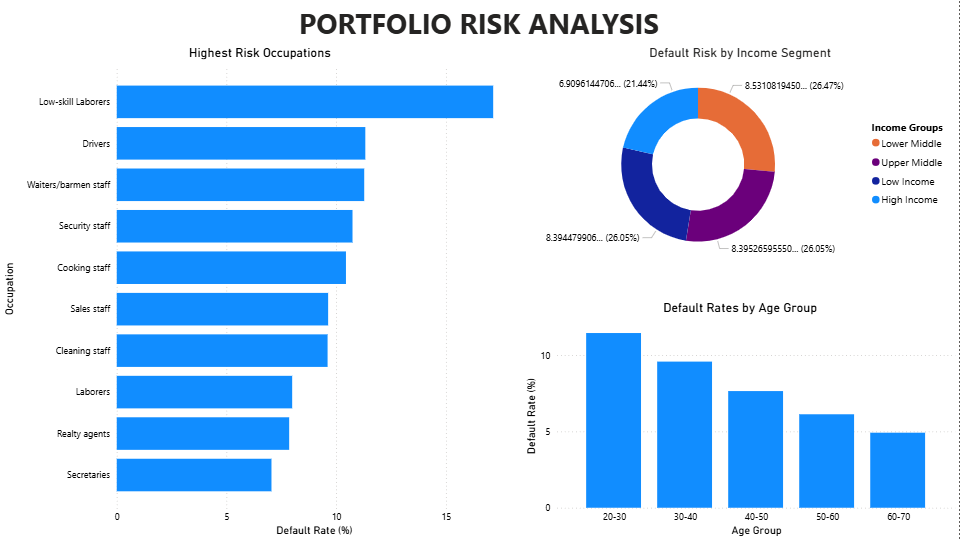

The page's visual inventory and layout, read from the dashboard file:
{"tool":"powerbi","page":{"name":"Page 2","canvas":[1280,720],"ordinal":1},"visuals":[{"type":"textbox","box":[0,0,1280,60],"z":0},{"type":"clusteredColumnChart","title":"Default Rates by Age Group","fields":{"Category":["age_risk.Age_Group"],"Y":["Sum(age_risk.Default_Rate)"]},"box":[695.7,400,584.3,320],"z":1000},{"type":"donutChart","title":"Default Risk by Income Segment","fields":{"Category":["income_risk.Income_Group"],"Y":["Sum(income_risk.Default_Rate)"]},"box":[695.7,60,584.3,300],"z":2000},{"type":"clusteredBarChart","title":"Highest Risk Occupations","fields":{"Category":["occupation_risk.OCCUPATION_TYPE"],"Y":["Sum(occupation_risk.TARGET)"]},"box":[0,60,695.7,660],"z":3000}]}

Visuals, with their boxes in screenshot pixels (x1, y1, x2, y2), scaled from the page's 1280x720 canvas onto the 960x540 screenshot:
textbox: 0:0:959:45
"Default Rates by Age Group" clusteredColumnChart: 522:300:959:539
"Default Risk by Income Segment" donutChart: 522:45:959:270
"Highest Risk Occupations" clusteredBarChart: 0:45:522:539
